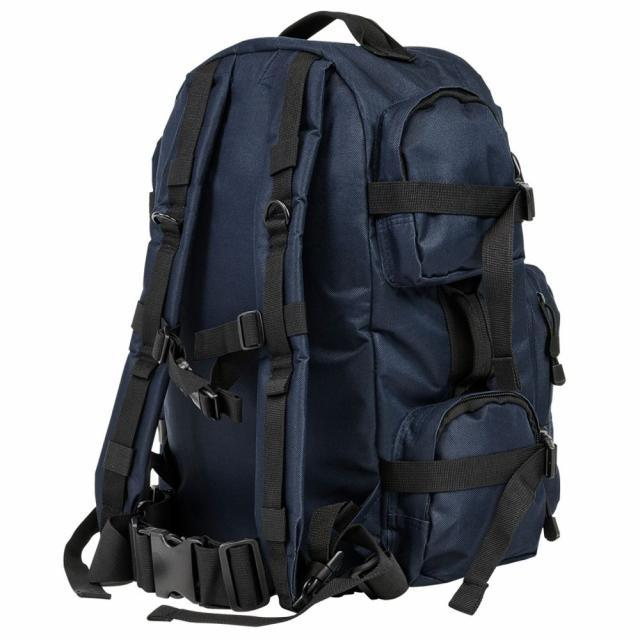Backpacks: (128, 31, 562, 600)
